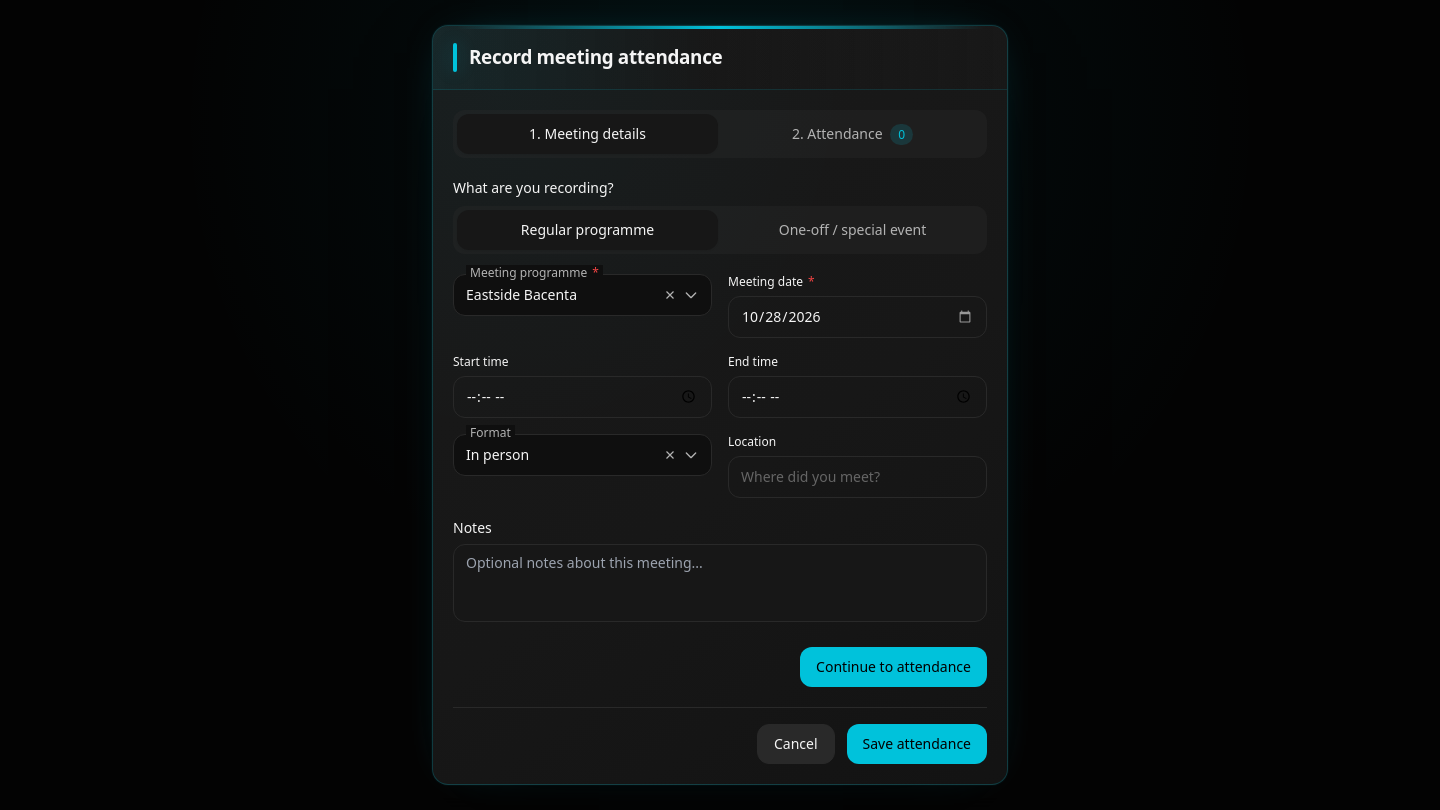
Test: MeetingForm regular expectations › requires confirmation of unmarked regulars before completing attendance
Click the button "2. Attendance 0" at (852, 134), box [722, 114, 983, 154]
(page scrolled)
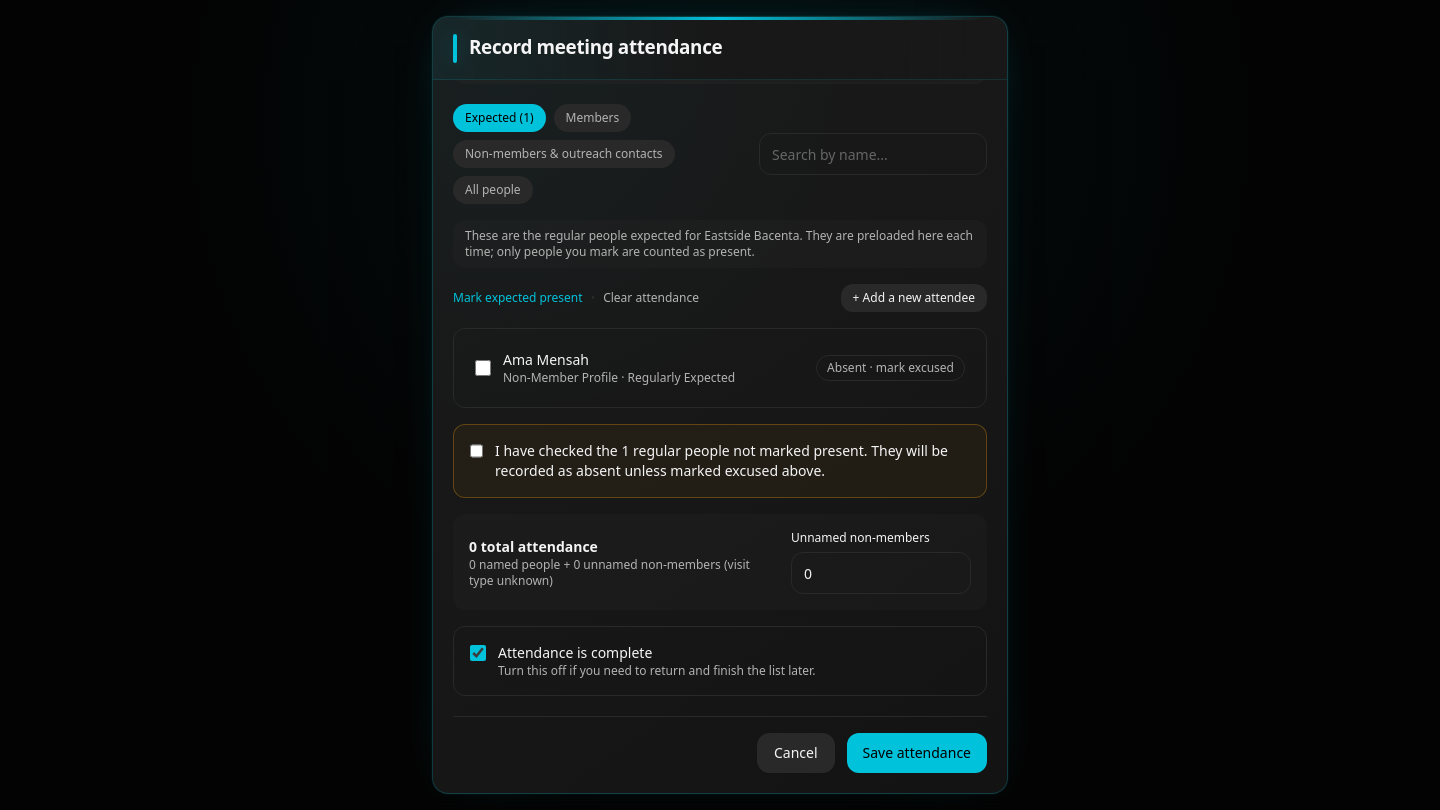
Expected: the text "1 regular people not marked present" is shown, [495, 441, 948, 480]
Click the button "Save attendance" at (917, 753), box [847, 733, 987, 773]
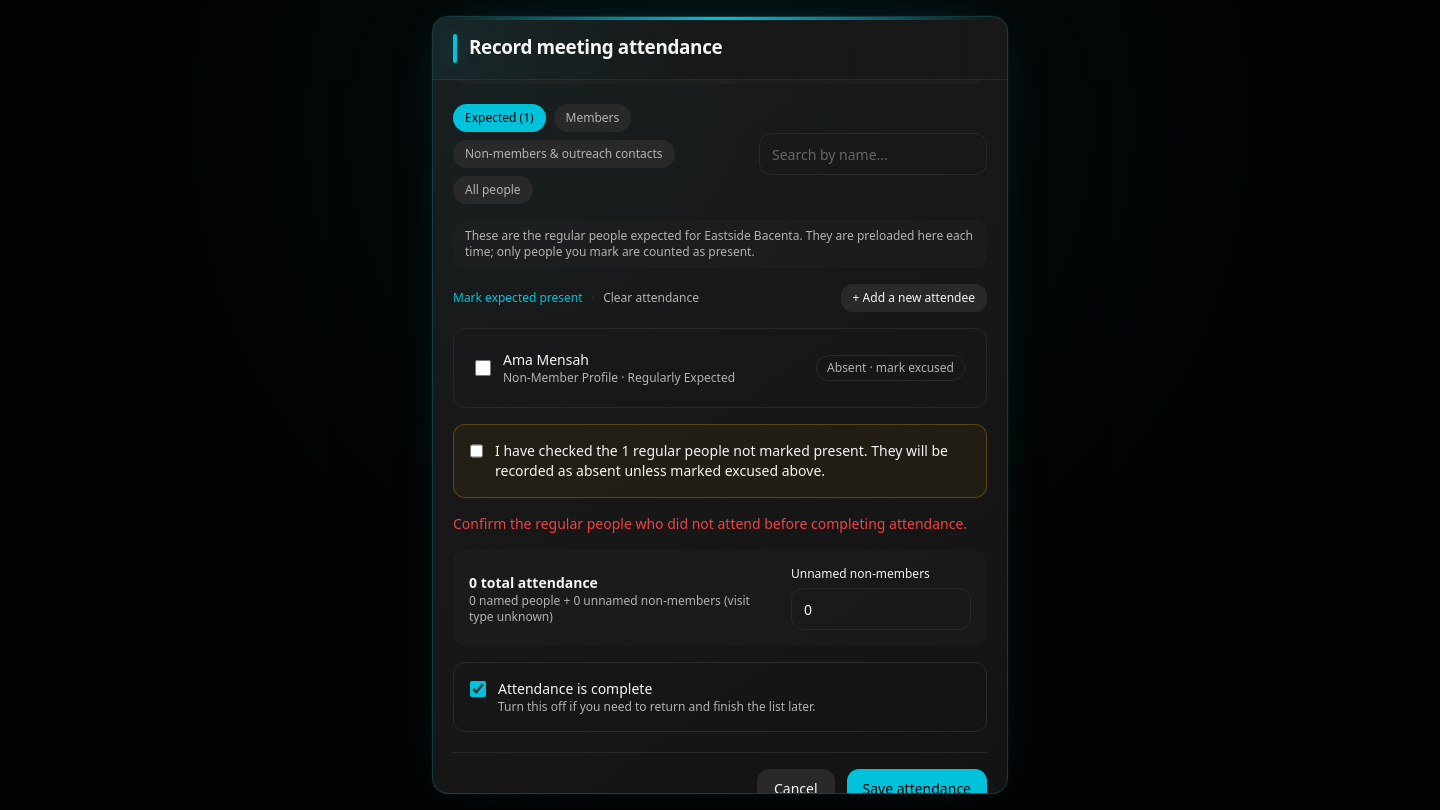
Expected: the text "Confirm the regular people" is shown, [453, 514, 967, 533]
Click the button "Absent · mark excused" at (891, 368), box [816, 355, 965, 381]
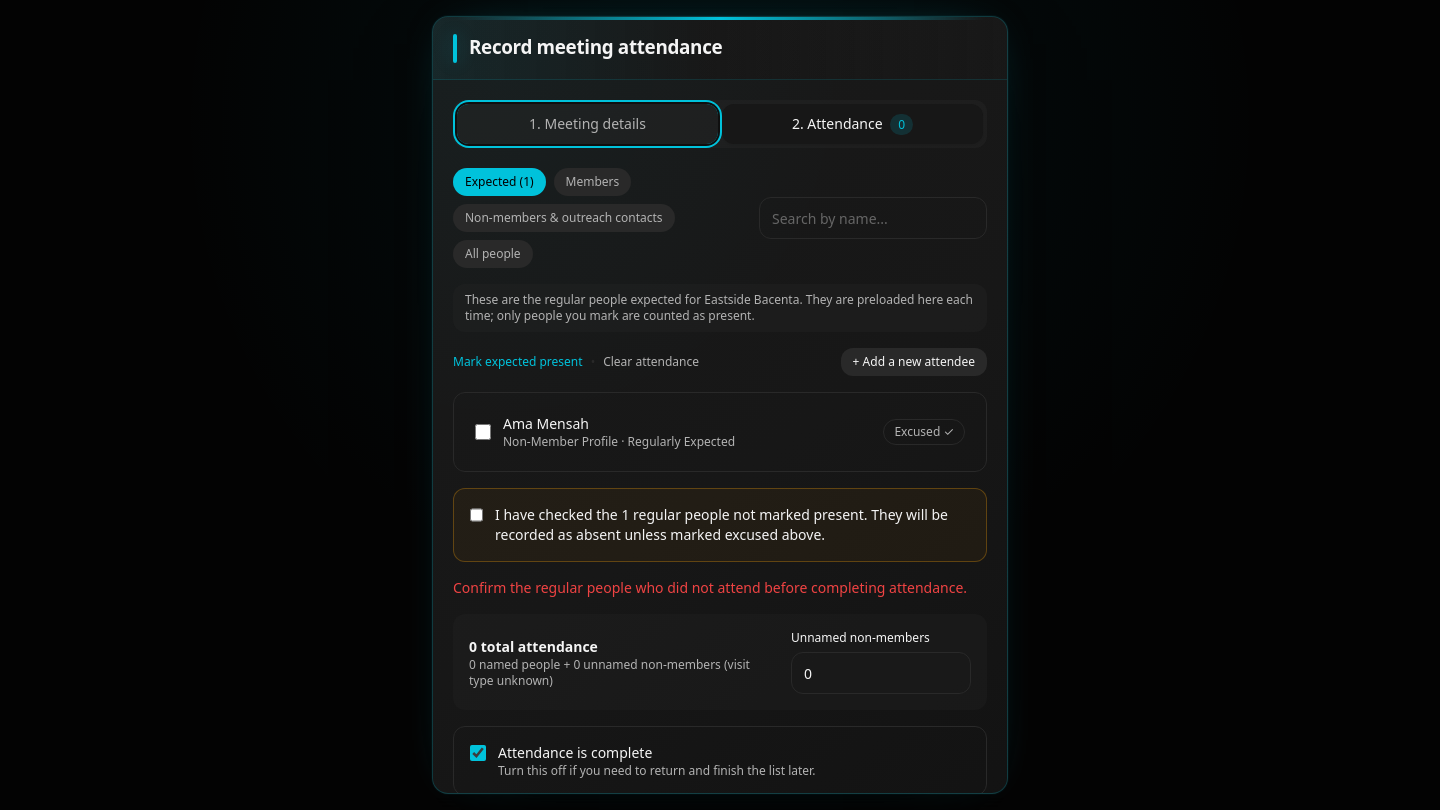
Expected: the button "Excused ✓" is shown, [883, 419, 965, 445]
